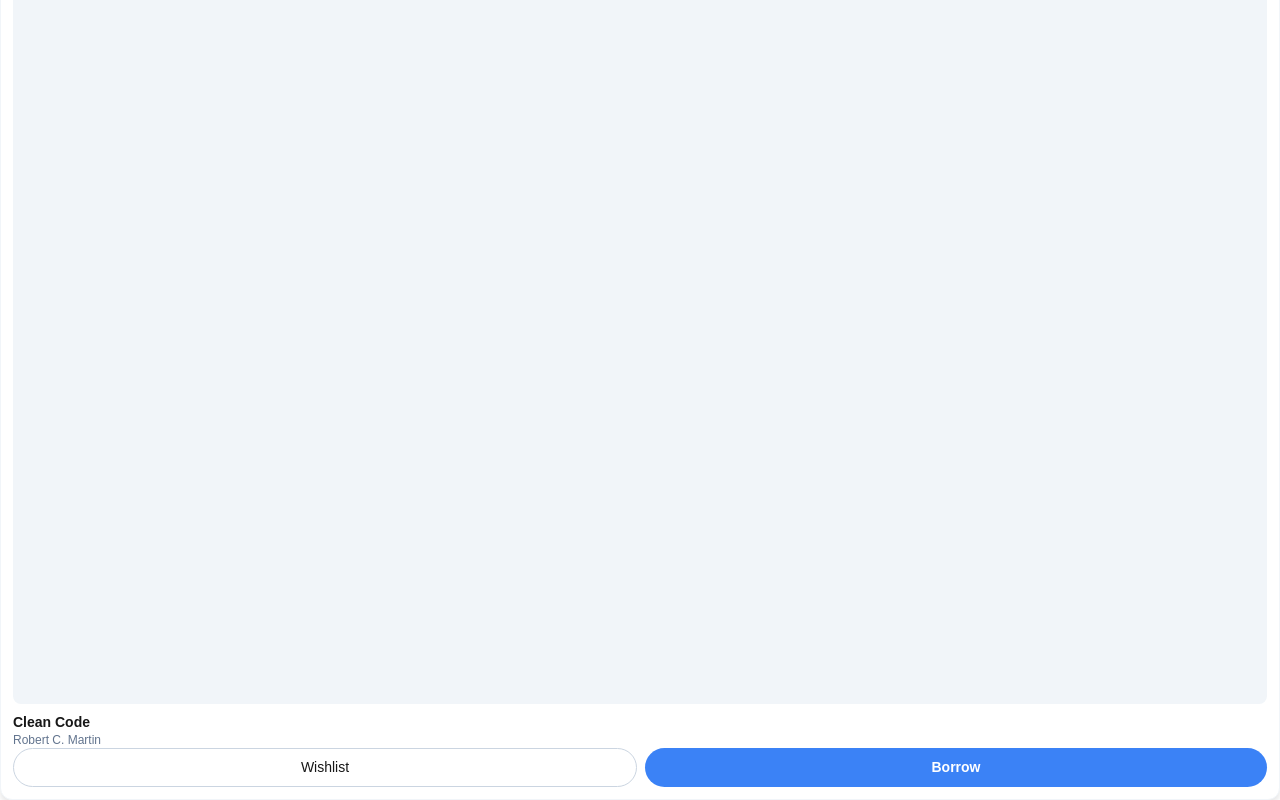
it: BookCard › shows Borrow when available, then Return after borrowing
(page scrolled)
Click the button "Borrow": (956,768) [645,748,1267,787]
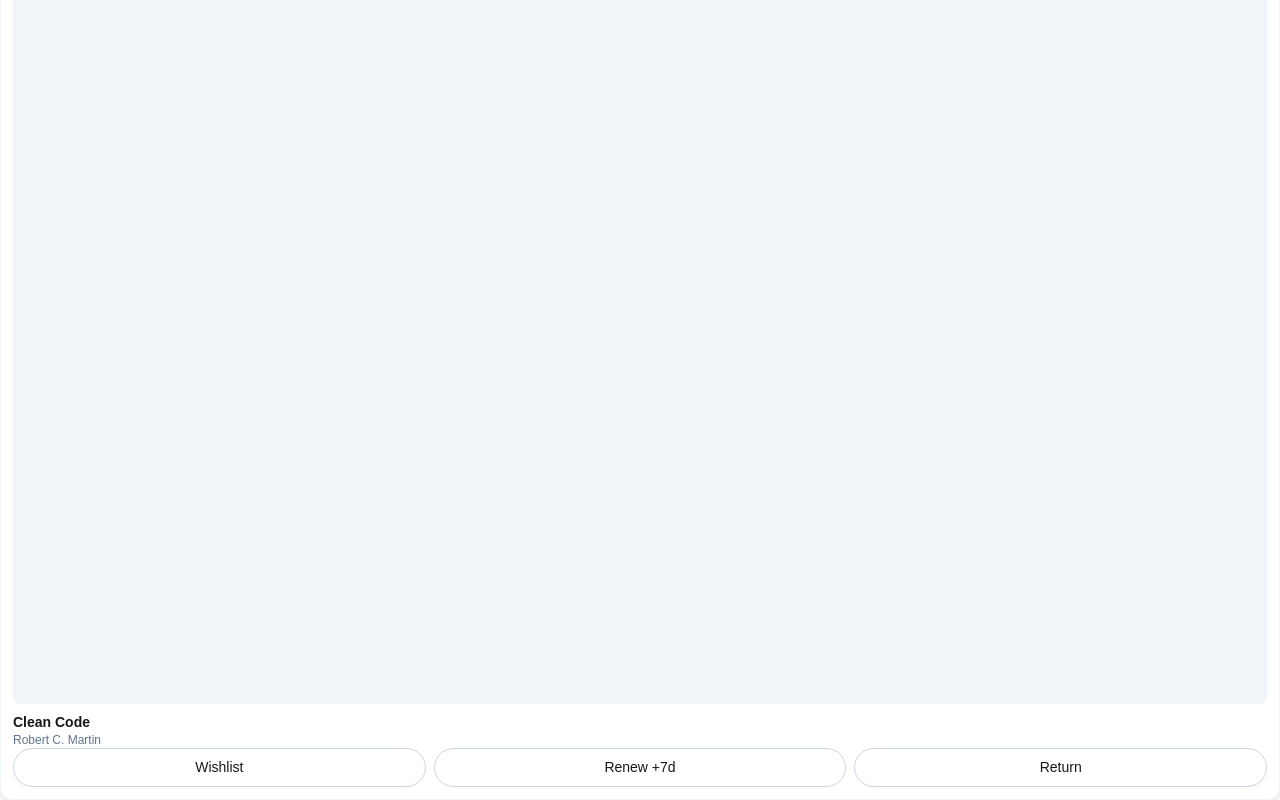
Check: the button "Borrow" is gone
Check: the button "Return" is shown, box [854,748,1267,787]
